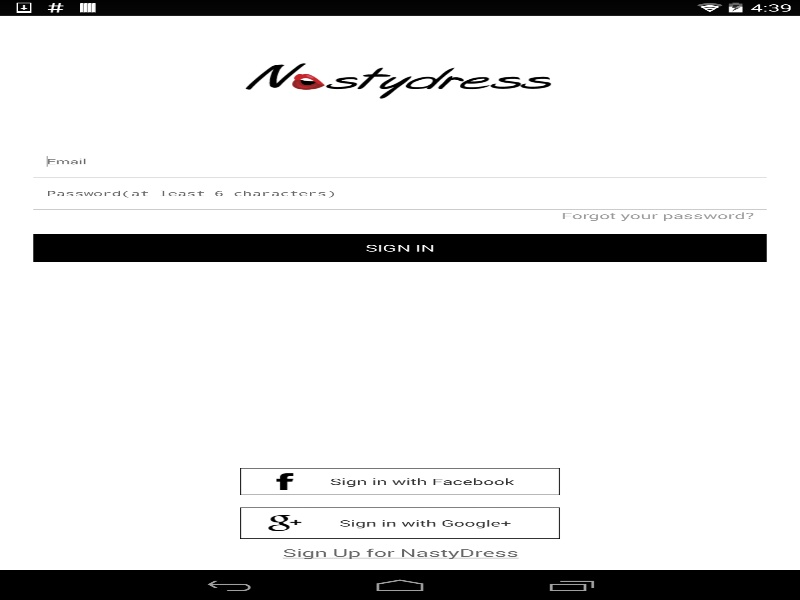Button: (33, 234, 766, 262), (240, 507, 560, 538), (240, 468, 560, 495)
Input: (33, 145, 766, 177), (33, 177, 766, 209)
